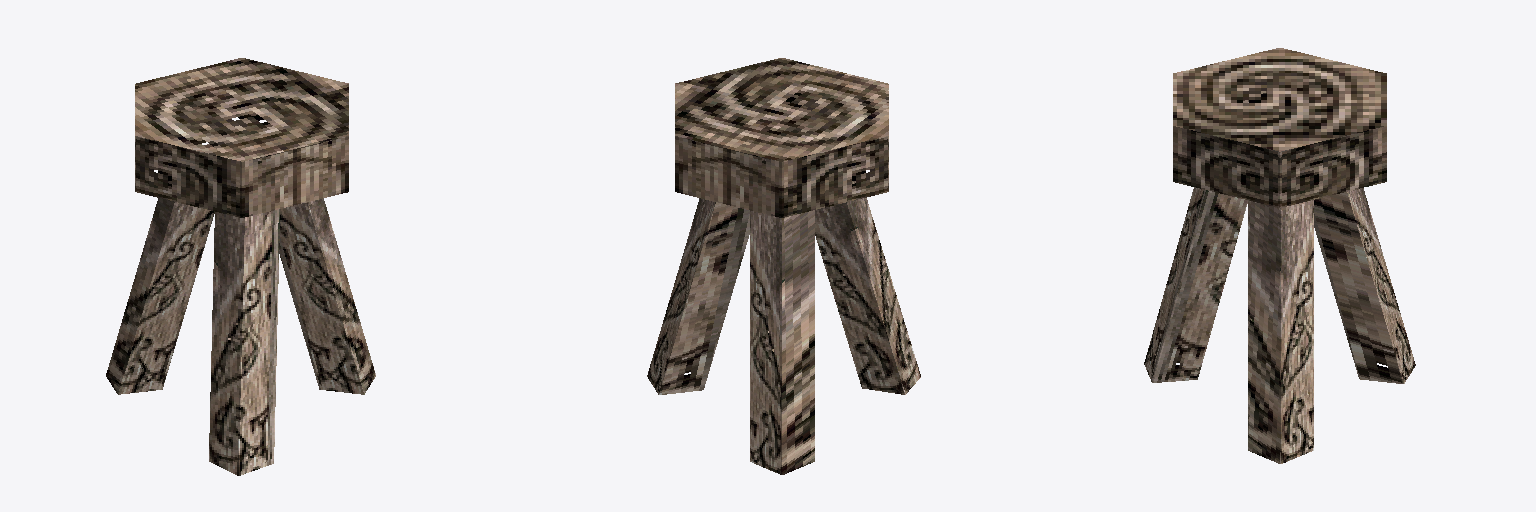
3 views of the same model, side by side, from view 1: azimuth 30°, elevation 25°; view 2: azimuth 150°, elevation 25°; view 3: azimuth 270°, elevation 25° (orthographic).
Visible parts, largest first — view 1: Mesh_0; view 2: Mesh_0; view 3: Mesh_0.
Boxes of the visible parts, x1,y1,x2,y2 form: Mesh_0: [106, 58, 375, 475]; Mesh_0: [647, 58, 920, 474]; Mesh_0: [1144, 48, 1415, 463].
Size of the model in its own units: 0.4338 by 0.5141 by 0.4233.
1 materials, 1 textured.